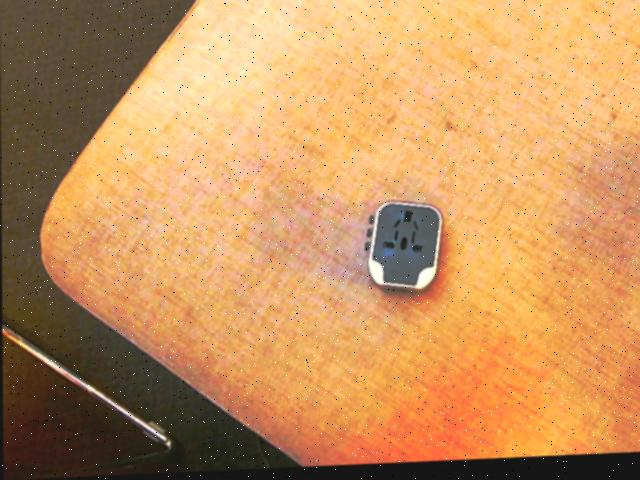adapter: (363, 201, 442, 297)
